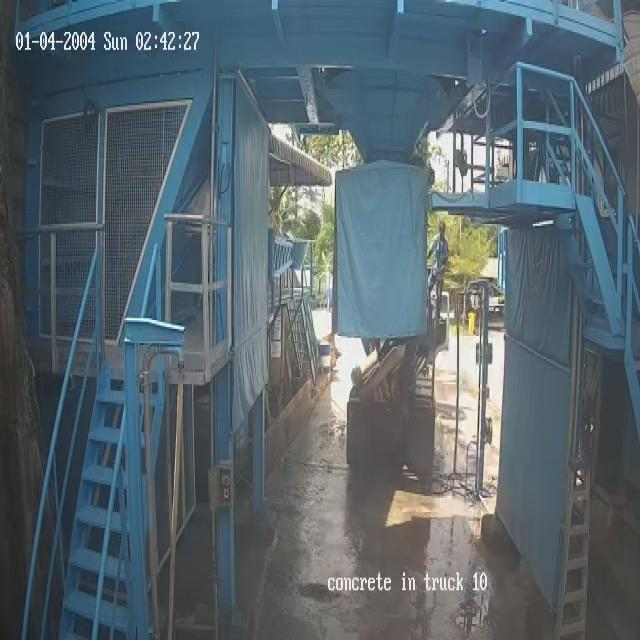cement_mixer_truck: (345, 286, 448, 489)
